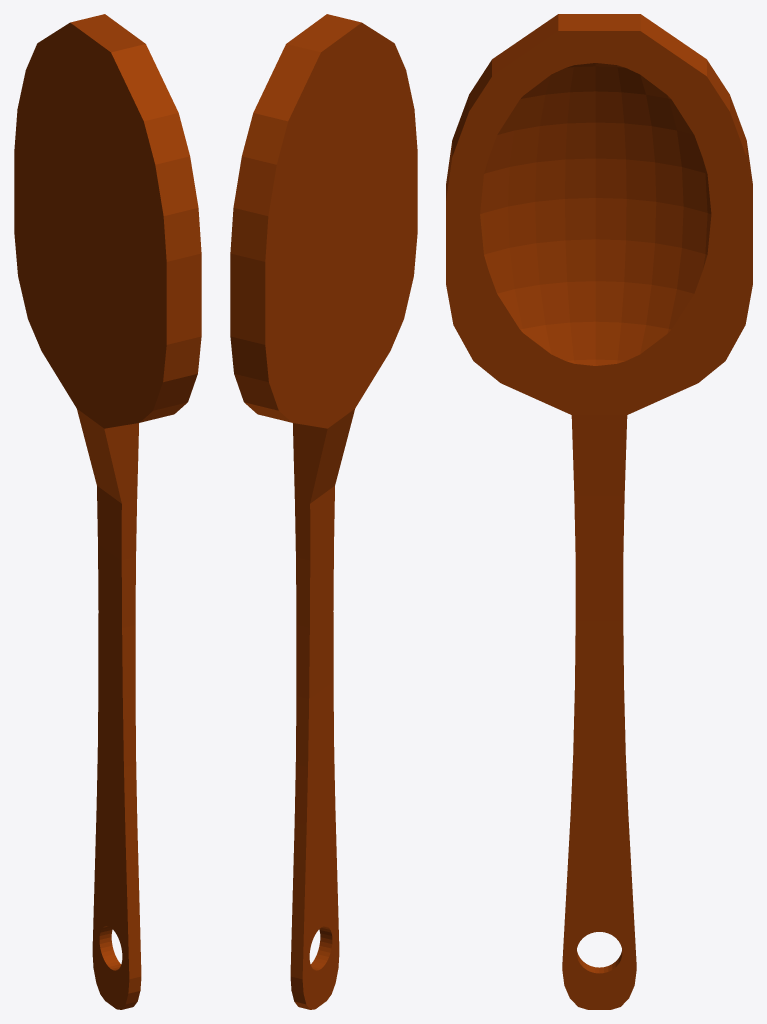
The model's file is ustensilwood_005.fbx.
3 views of the same model, side by side, from view 1: azimuth 30°, elevation 25°; view 2: azimuth 150°, elevation 25°; view 3: azimuth 270°, elevation 25° (orthographic).
Visible parts, largest first — view 1: Cube.013; view 2: Cube.013; view 3: Cube.013.
Part boxes in pixels (bbox=[...]): Cube.013: bbox=[14, 14, 201, 1009]; Cube.013: bbox=[230, 14, 417, 1009]; Cube.013: bbox=[446, 14, 752, 1009].
Size of the model in its own units: 7.04 by 187 by 53.18.
